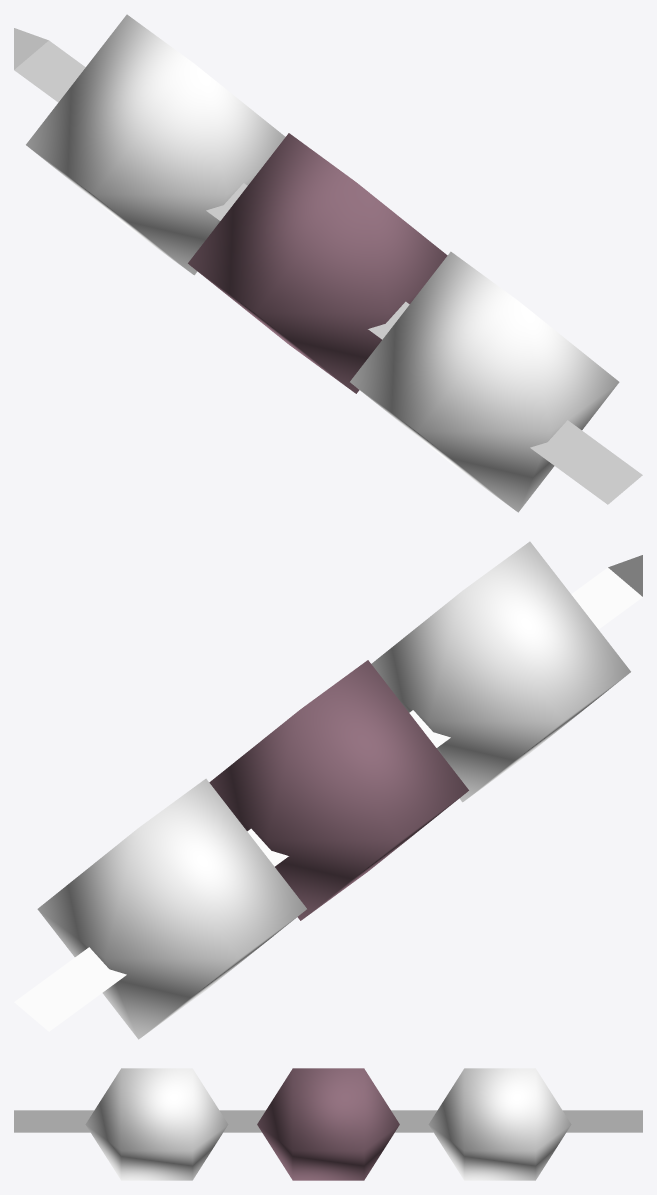
Rendered from SM_Item_Dango.glb.
3 views of the same model, one above another, from view 1: azimuth 30°, elevation 25°; view 2: azimuth 150°, elevation 25°; view 3: azimuth 270°, elevation 25° (orthographic). The views are drawn at different scales.
Parts seen in each view (by area): view 1: asset_item_dango; view 2: asset_item_dango; view 3: asset_item_dango.
Part boxes in pixels (box(x1,y1,x2,y2)): asset_item_dango: box(14, 14, 642, 512); asset_item_dango: box(14, 541, 642, 1039); asset_item_dango: box(14, 1068, 642, 1180).
Size of the model in its own units: 0.0433 by 0.0433 by 0.22.
Materials: 1 (1 with a texture image).
